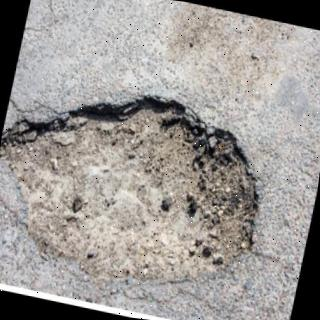pothole: (0, 98, 258, 281)
